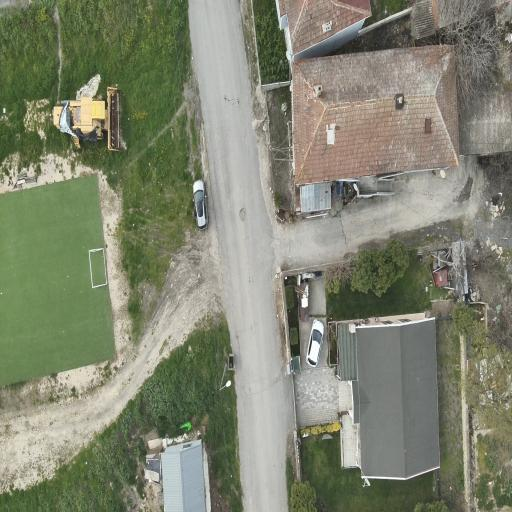car: (193, 180, 209, 230), (307, 320, 324, 367)
harvester: (54, 88, 120, 150)
